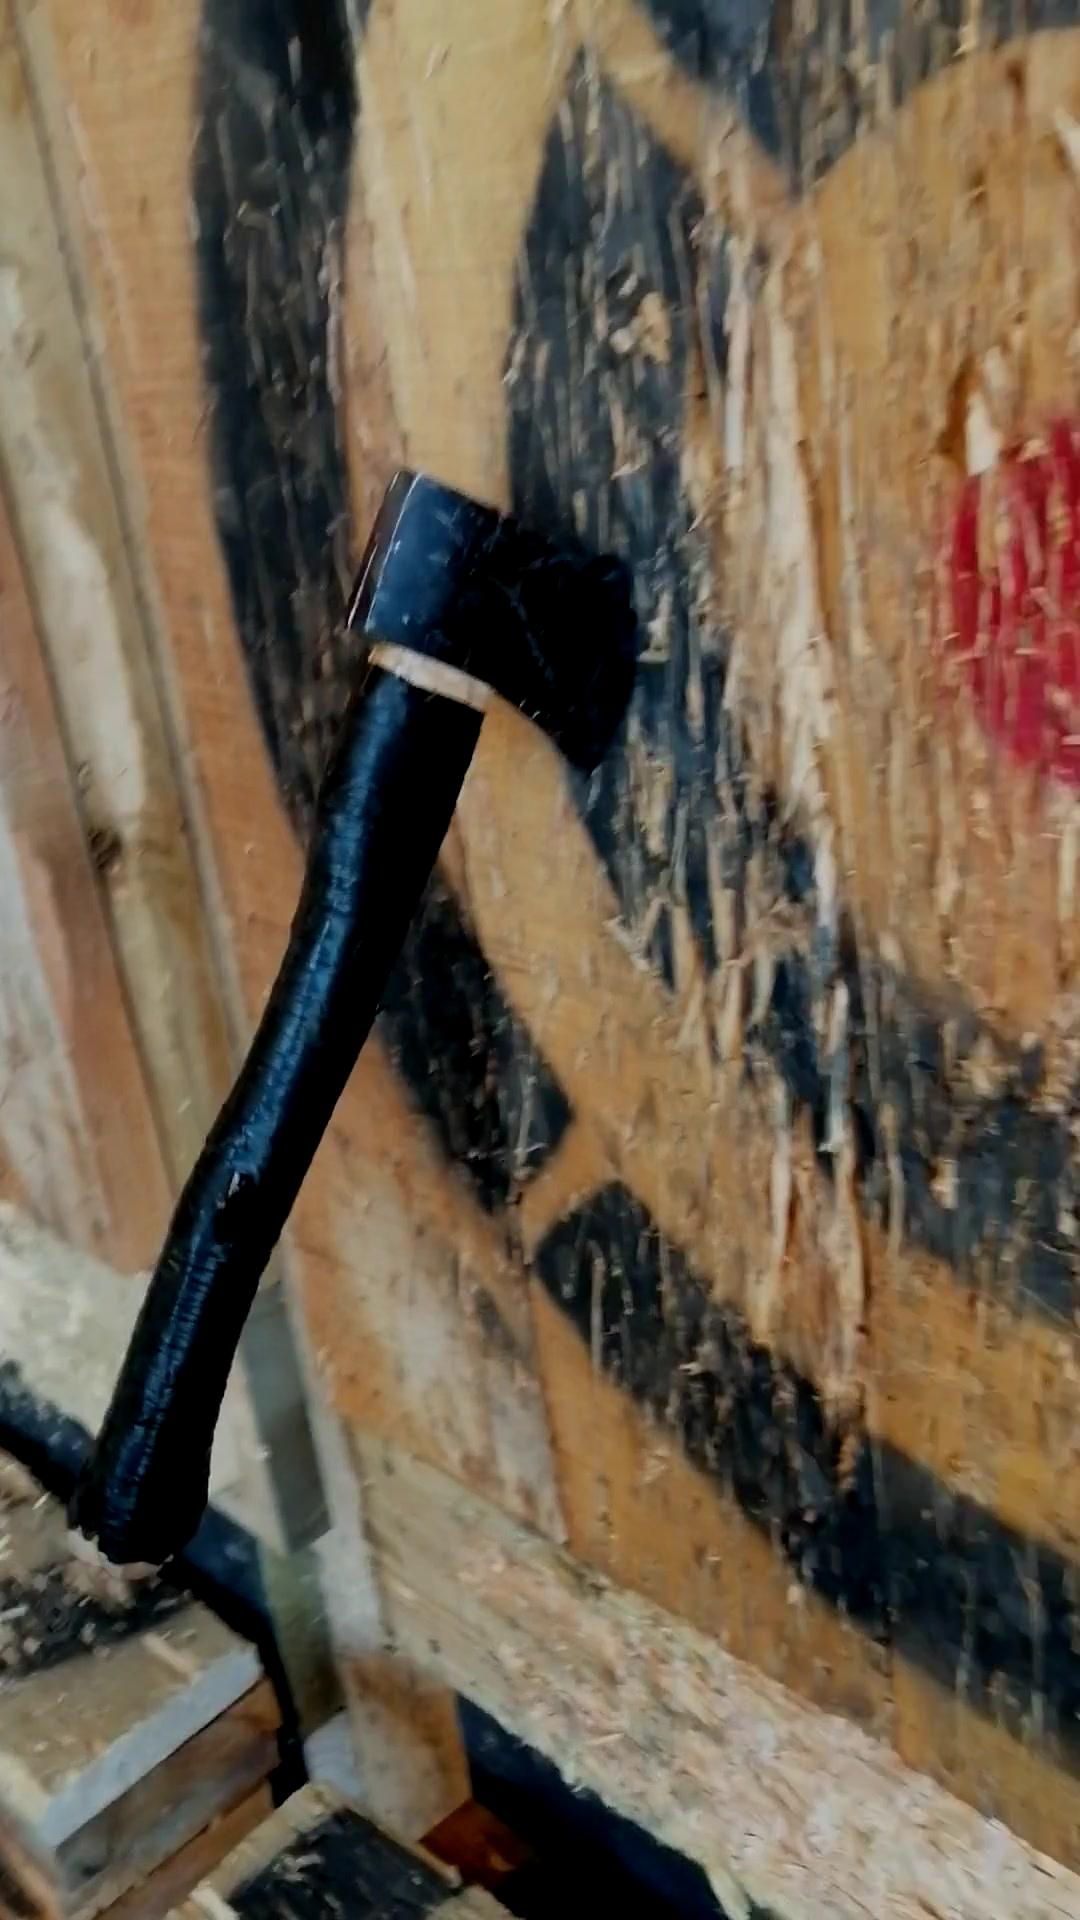Hand Axe: (342, 469, 647, 767)
